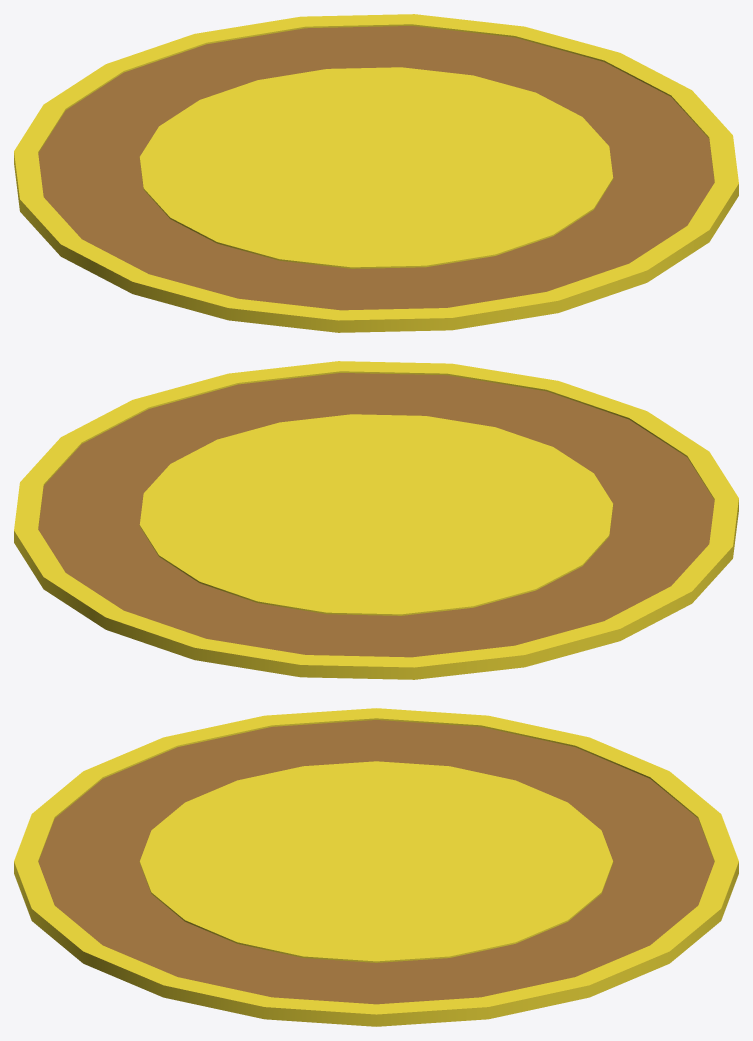
Rendered from Coin.FBX.
3 views of the same model, one above another, from view 1: azimuth 30°, elevation 25°; view 2: azimuth 150°, elevation 25°; view 3: azimuth 270°, elevation 25° (orthographic).
Parts seen in each view (by area): view 1: Cylinder001; view 2: Cylinder001; view 3: Cylinder001.
Part boxes in pixels (x1,y1,x2,y2): Cylinder001: (14,14,738,332); Cylinder001: (14,361,738,679); Cylinder001: (14,708,738,1026).
Size of the model in its own units: 7.93 by 0.1482 by 7.93.
